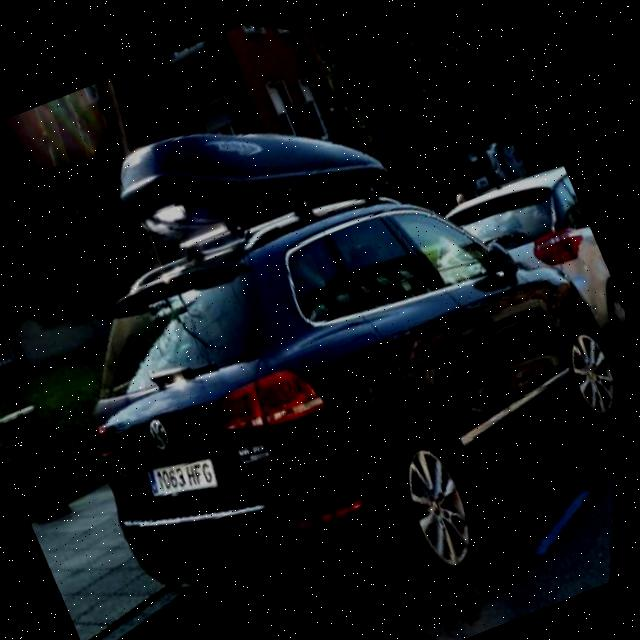license_plate: (147, 435, 230, 512)
